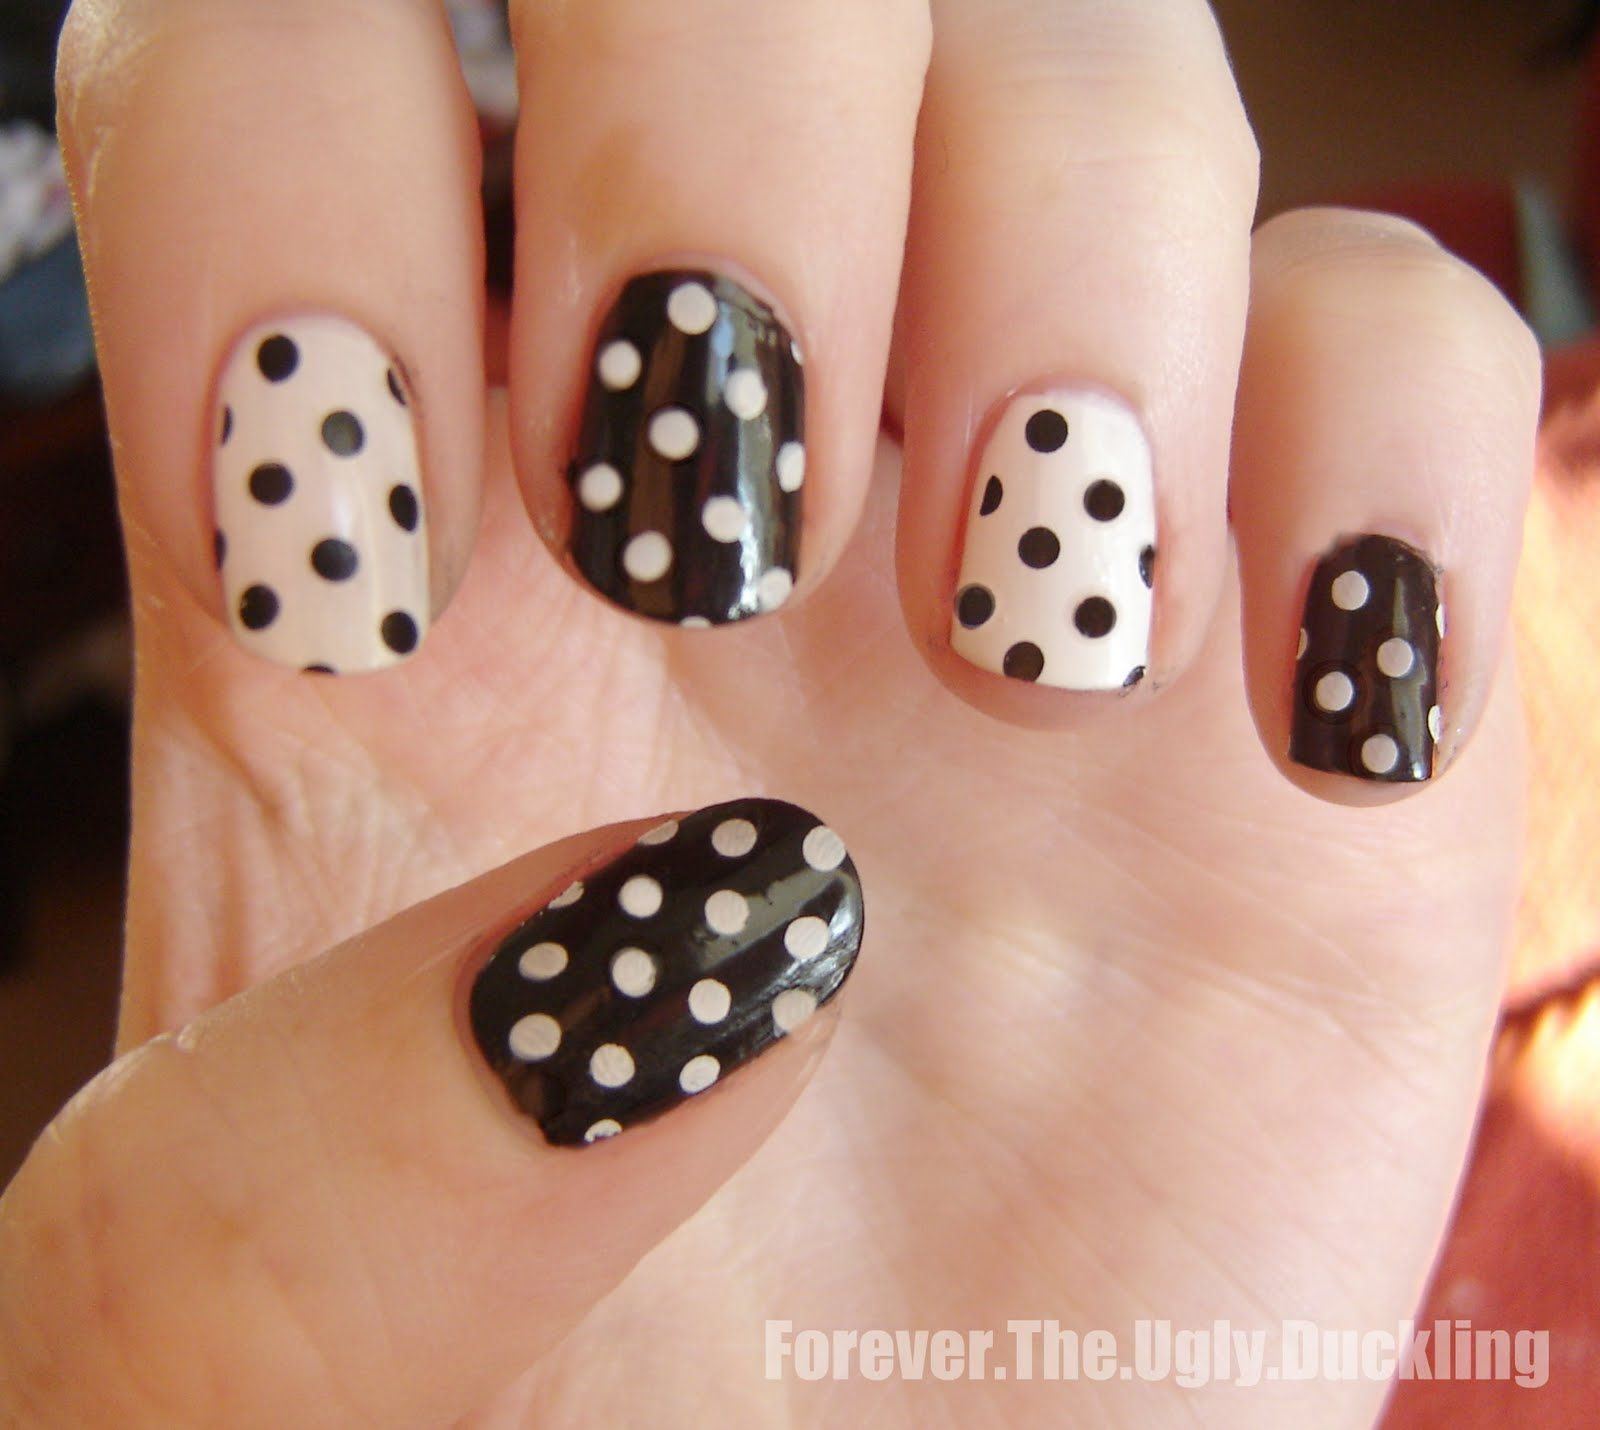nails: (458, 787, 881, 1165), (555, 250, 819, 645), (193, 295, 446, 685), (935, 364, 1178, 715), (1276, 525, 1458, 806)
